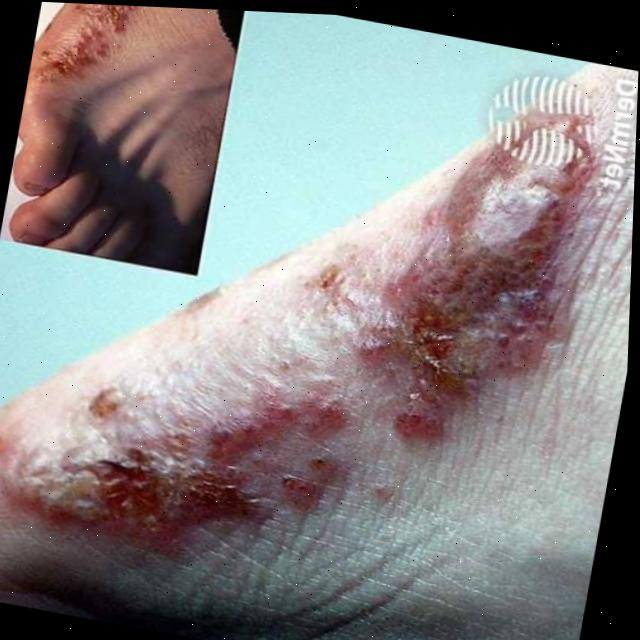Eczema: (52, 114, 608, 625), (67, 3, 134, 56)
